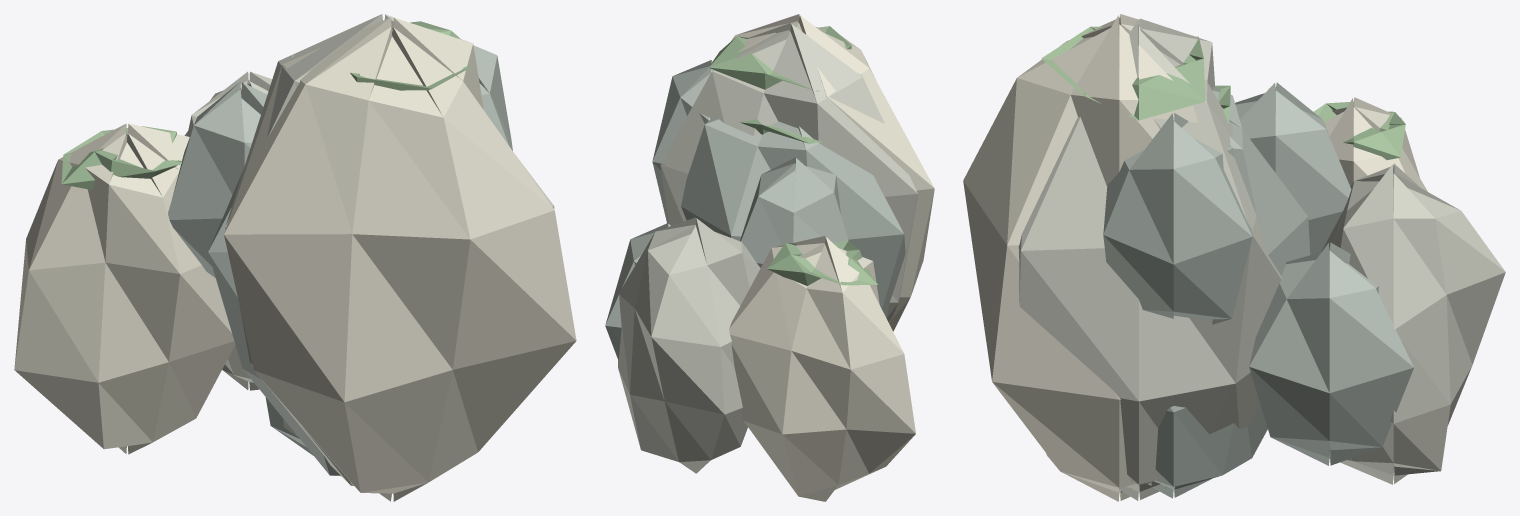
Rendered from cliff_outcrop.glb.
3 renders of one model, left to right at view 1: azimuth 30°, elevation 25°; view 2: azimuth 150°, elevation 25°; view 3: azimuth 270°, elevation 25°, orthographic. The views are drawn at different scales.
Visible parts, largest first — view 1: cliff_outcrop; view 2: cliff_outcrop; view 3: cliff_outcrop.
Boxes of the visible parts, left/top/right/bottom form: cliff_outcrop: left=14, top=14, right=576, bottom=501; cliff_outcrop: left=605, top=14, right=934, bottom=501; cliff_outcrop: left=963, top=14, right=1505, bottom=501.
Size of the model in its own units: 2.81 by 3.2 by 3.22.
